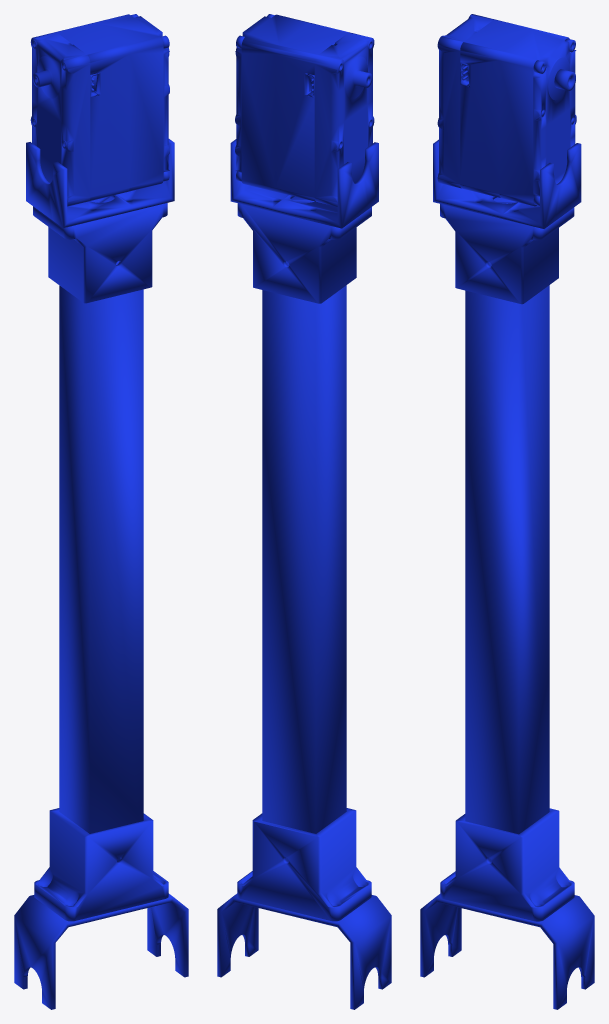
The picture shows the model from 3 angles, left to right: view 1: azimuth 30°, elevation 25°; view 2: azimuth 150°, elevation 25°; view 3: azimuth 330°, elevation 25°; orthographic projection.
Visible parts, largest first — view 1: ID2.001; view 2: ID2.001; view 3: ID2.001.
Part boxes in pixels (x1,y1,x2,y2): ID2.001: (14, 14, 188, 1009); ID2.001: (217, 14, 391, 1009); ID2.001: (420, 14, 594, 1009).
Bounding box in the file's own units: 0.0641 × 0.0303 × 0.4204.
